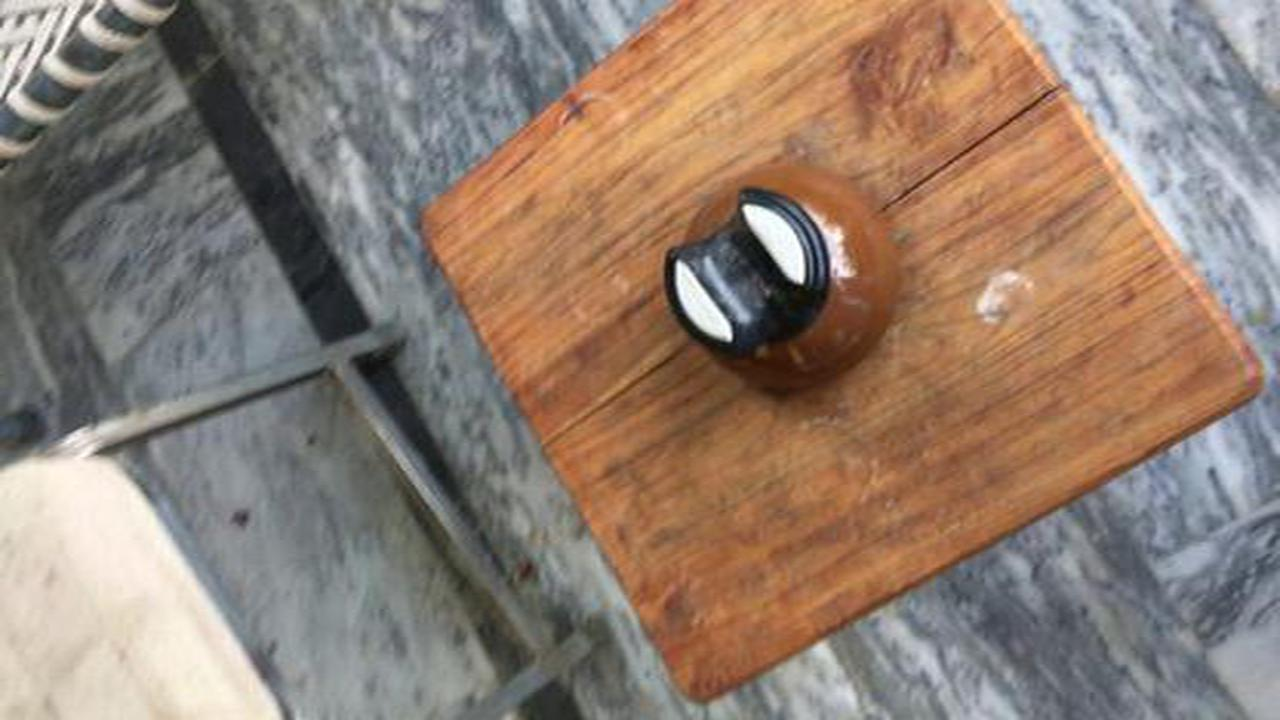insulator_pin: (647, 155, 927, 418)
